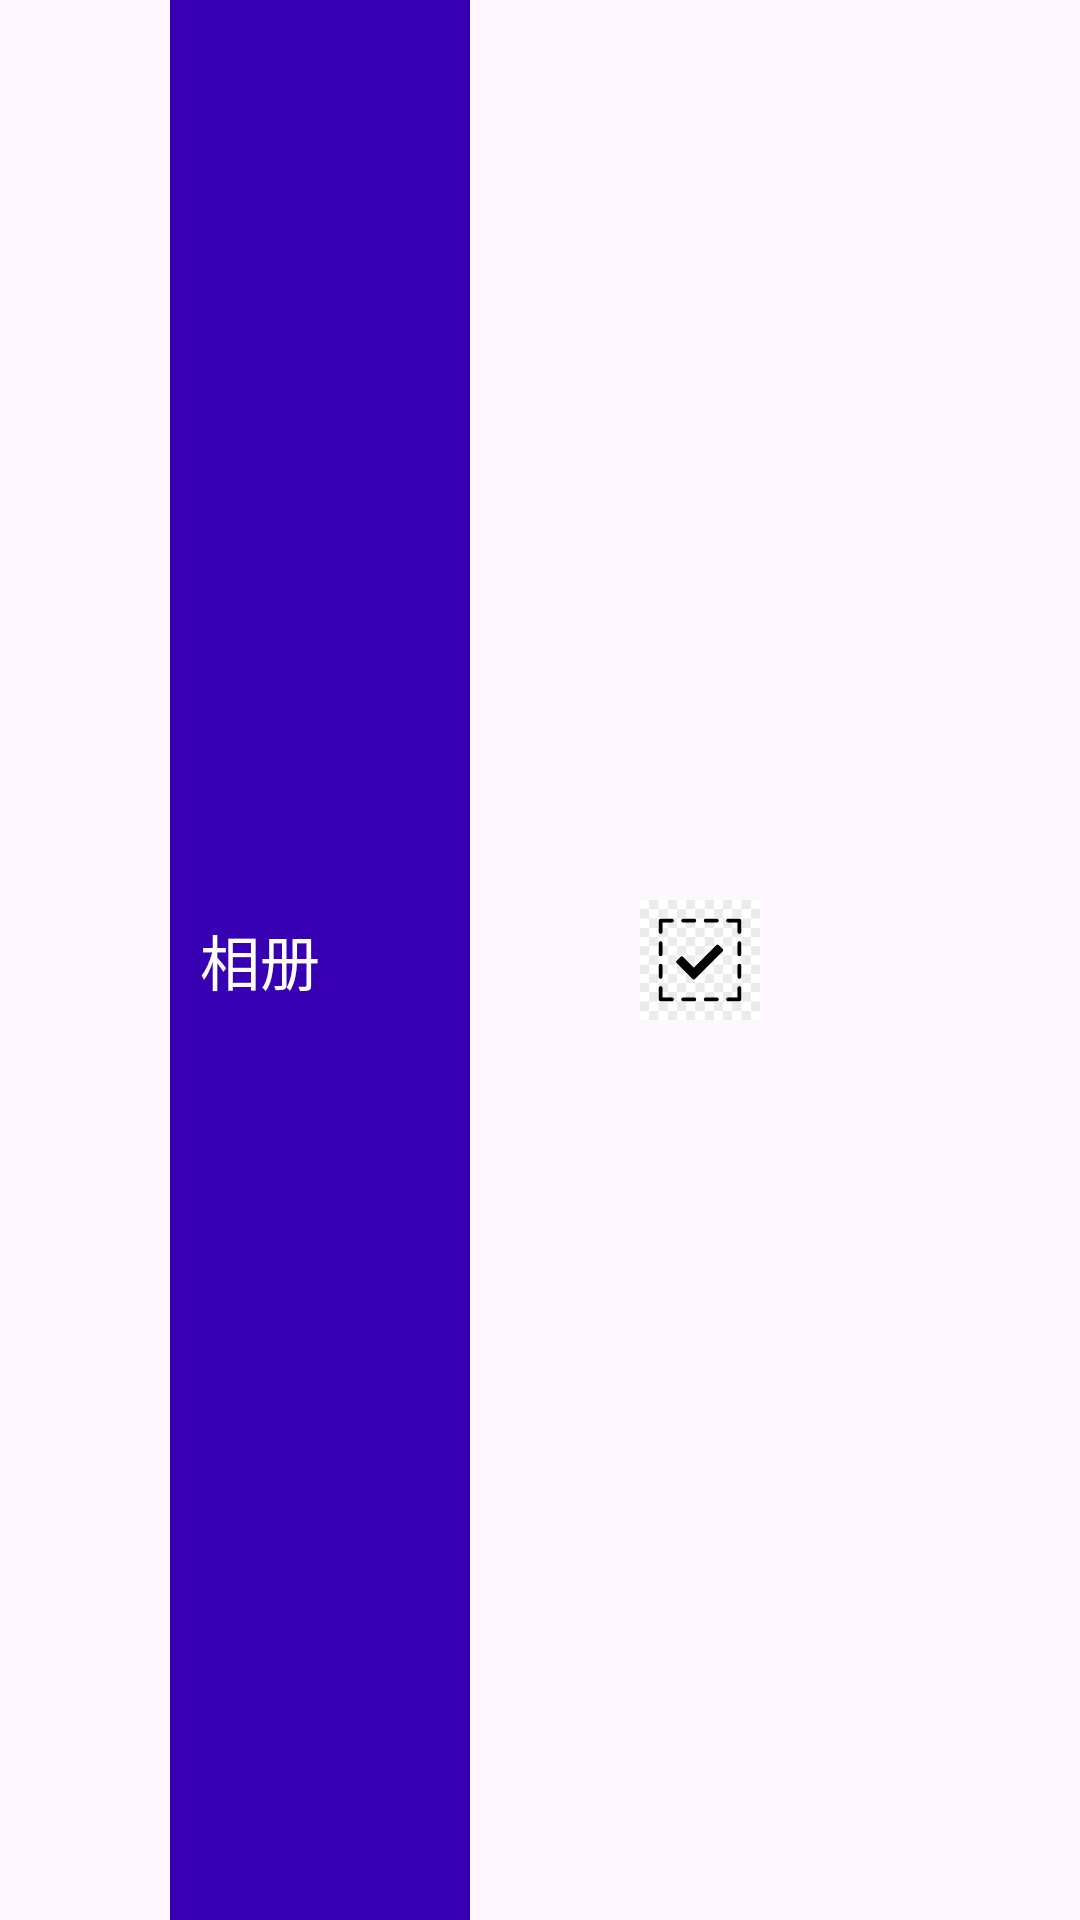

Named icons in this screenshot (1080px x 1920px) and their centers, (x,y):
choose mode: (700,960)
